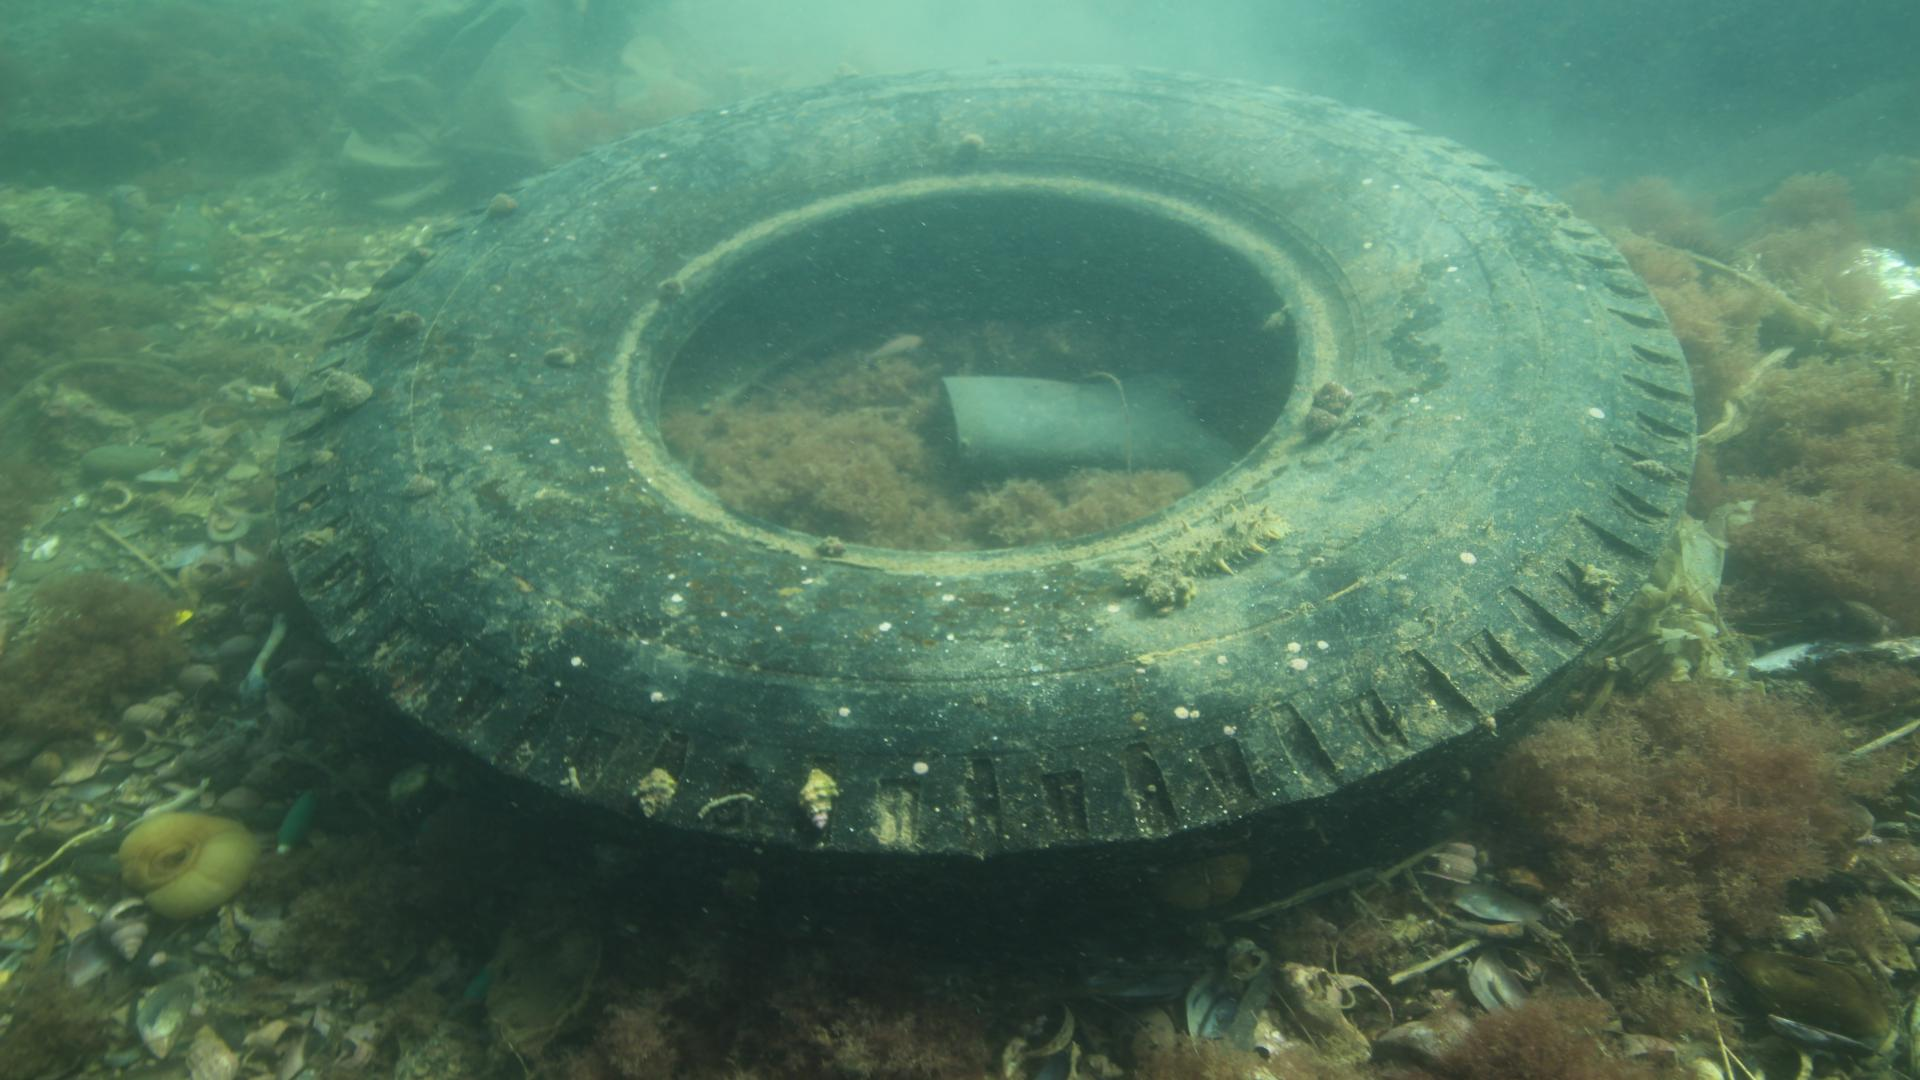tire: (270, 61, 1698, 982)
